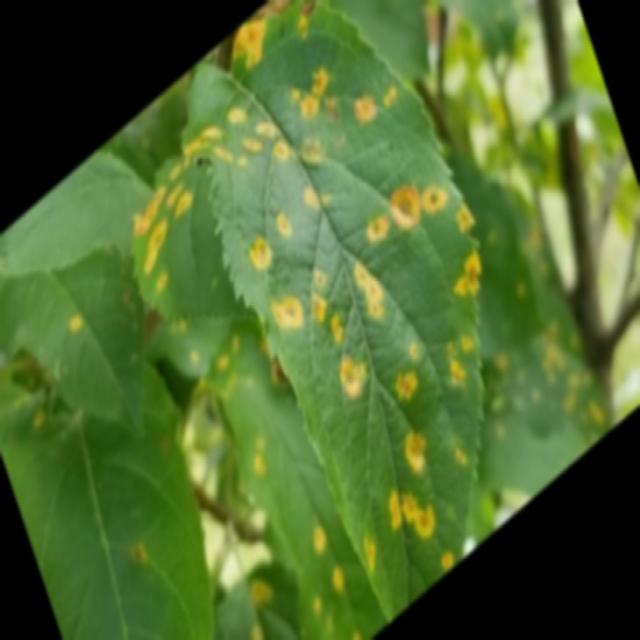Gymnosporangium_Rusts: (0, 0, 638, 639)
